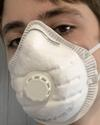with_mask: (1, 2, 100, 125)
